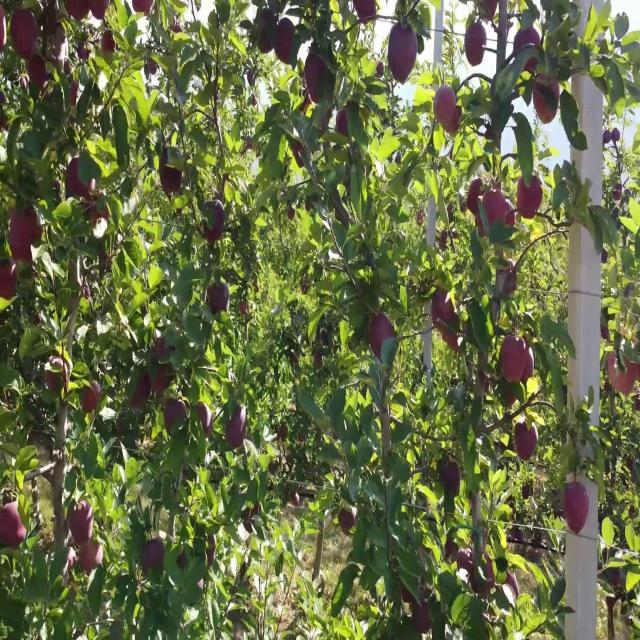apple: (8, 206, 44, 265), (388, 21, 419, 82), (512, 28, 544, 78), (304, 49, 331, 105), (12, 7, 39, 62), (564, 483, 591, 537), (532, 78, 561, 128), (436, 85, 464, 135), (368, 312, 396, 361), (500, 334, 527, 384), (0, 504, 27, 551), (480, 184, 504, 235), (516, 177, 544, 220), (608, 355, 636, 398), (68, 504, 95, 548), (464, 21, 488, 69), (68, 156, 94, 199), (472, 554, 496, 599), (44, 355, 70, 396), (516, 419, 539, 462), (164, 398, 188, 436), (276, 21, 297, 64), (256, 14, 277, 57), (432, 291, 455, 329), (80, 540, 104, 576), (128, 376, 151, 412), (204, 206, 225, 245), (160, 163, 184, 197), (444, 319, 467, 354), (228, 412, 248, 450), (28, 56, 49, 92), (496, 263, 517, 299), (0, 263, 19, 302), (484, 191, 505, 226), (208, 284, 230, 315), (352, 0, 377, 27), (80, 383, 101, 414), (144, 540, 165, 571), (444, 462, 462, 498), (468, 177, 485, 213), (412, 604, 432, 633), (196, 405, 213, 439), (92, 199, 110, 228), (152, 334, 169, 363), (152, 369, 170, 396), (336, 106, 350, 139), (504, 193, 517, 228), (480, 0, 499, 23), (292, 142, 307, 171), (524, 348, 536, 384), (68, 0, 88, 21), (132, 0, 153, 20), (0, 92, 10, 133), (92, 0, 110, 21), (340, 511, 356, 533), (100, 35, 116, 57), (476, 213, 489, 238), (504, 206, 517, 228), (148, 56, 160, 78), (0, 7, 5, 52), (448, 540, 458, 560), (80, 42, 89, 64), (400, 590, 414, 604), (276, 426, 288, 441), (72, 85, 80, 107), (508, 391, 517, 407), (376, 63, 385, 78), (316, 355, 324, 370), (180, 554, 187, 569), (240, 305, 248, 316)
